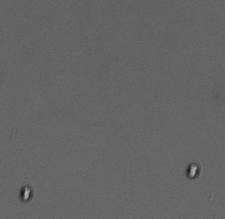Living Cell: (18, 183, 35, 204), (185, 161, 201, 180)
